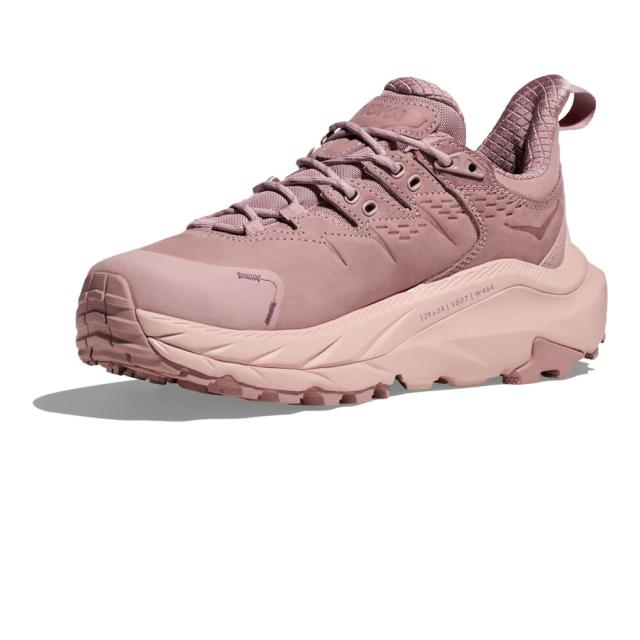shoe: (69, 73, 611, 414)
